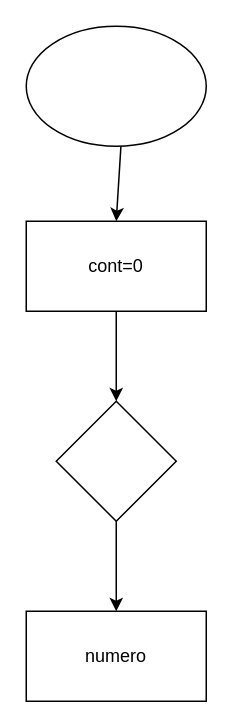
Some shapes in this 233 by 728 pixel diagram are drawn without their labels. The box of each missing label's shape, as (x1, y1, x2, y2) in pixels:
inicio: (25, 25, 206, 146)
numero>0: (55, 400, 176, 521)
